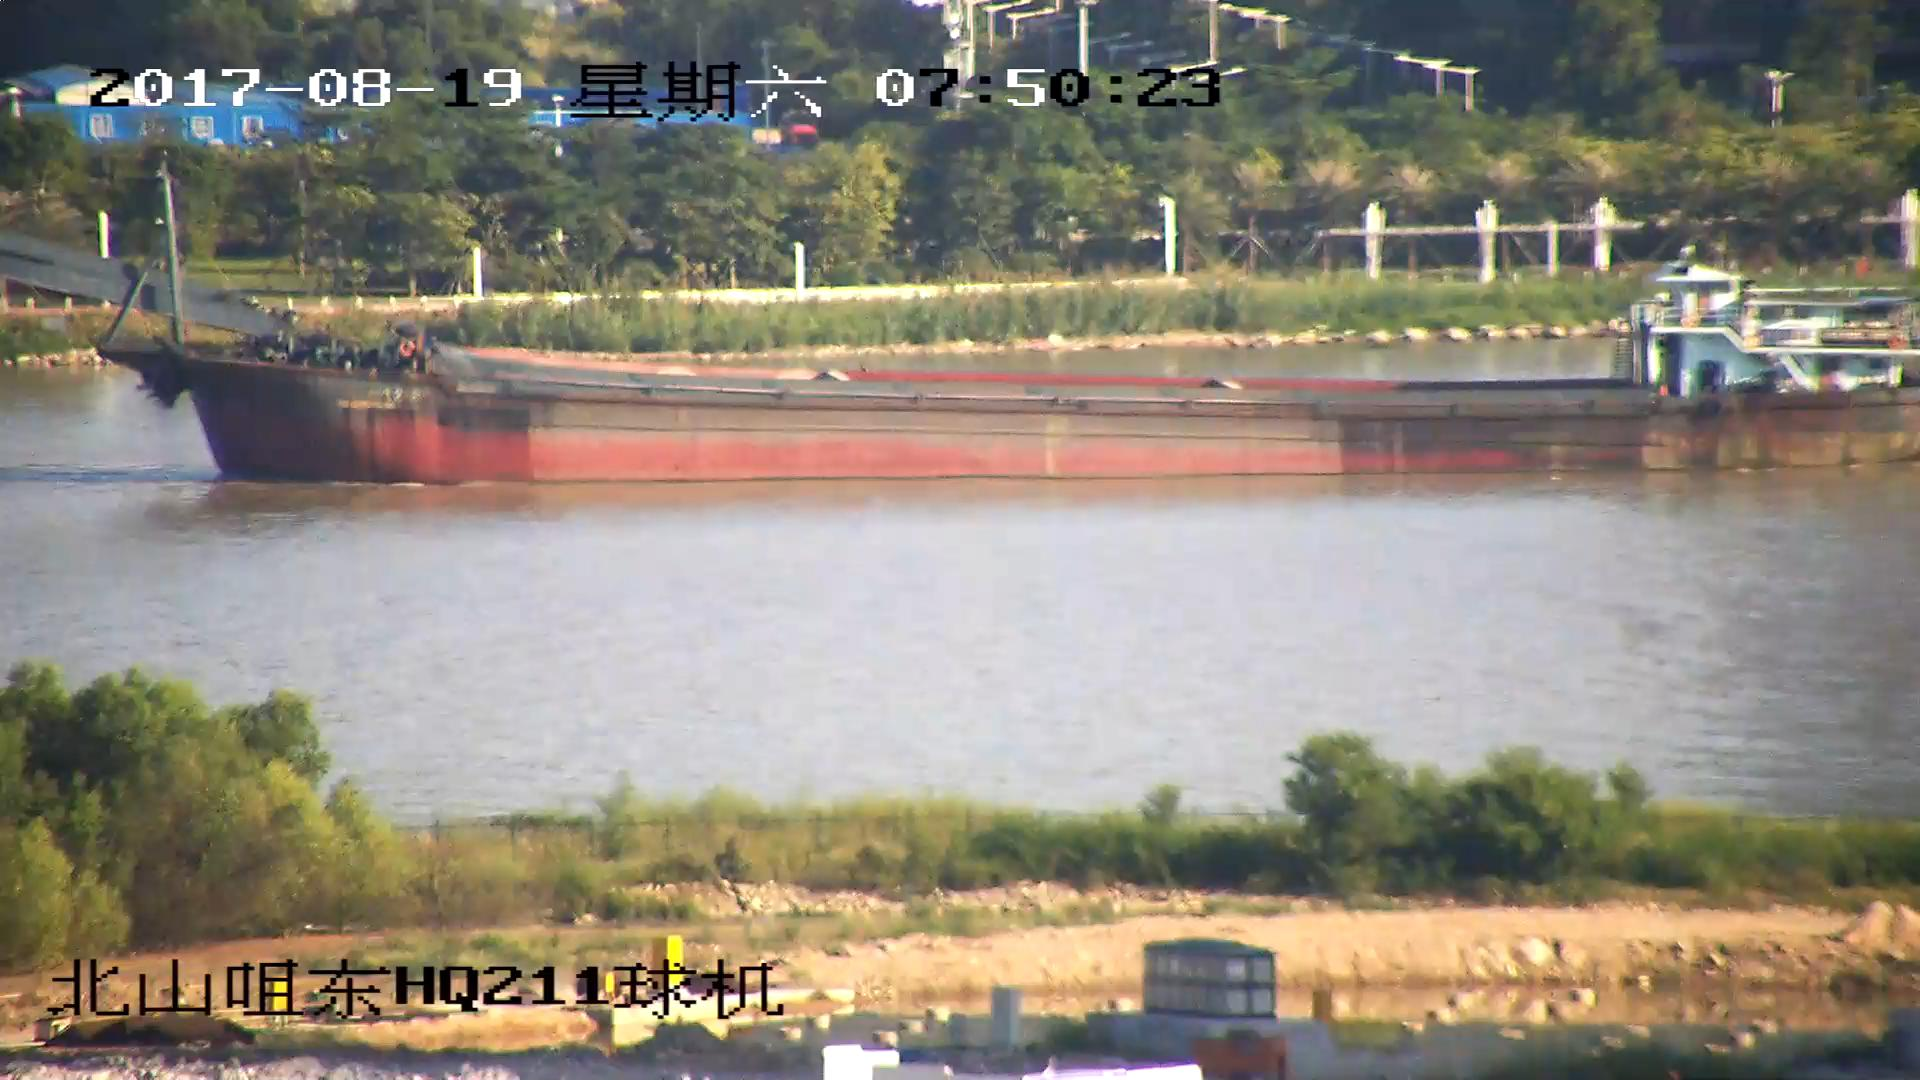bulk cargo carrier: (1, 178, 1920, 485)
